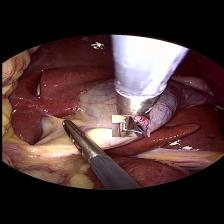Grasper: (47, 117, 102, 157), (111, 116, 149, 138)
